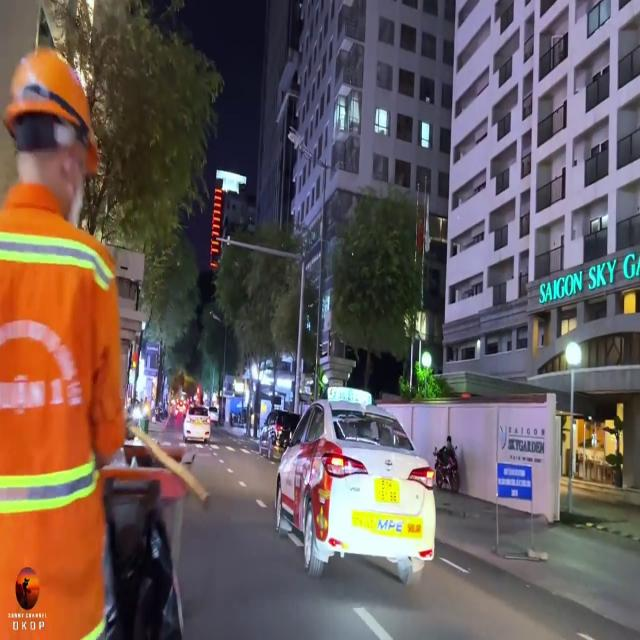bien_vang: (373, 477, 401, 506)
